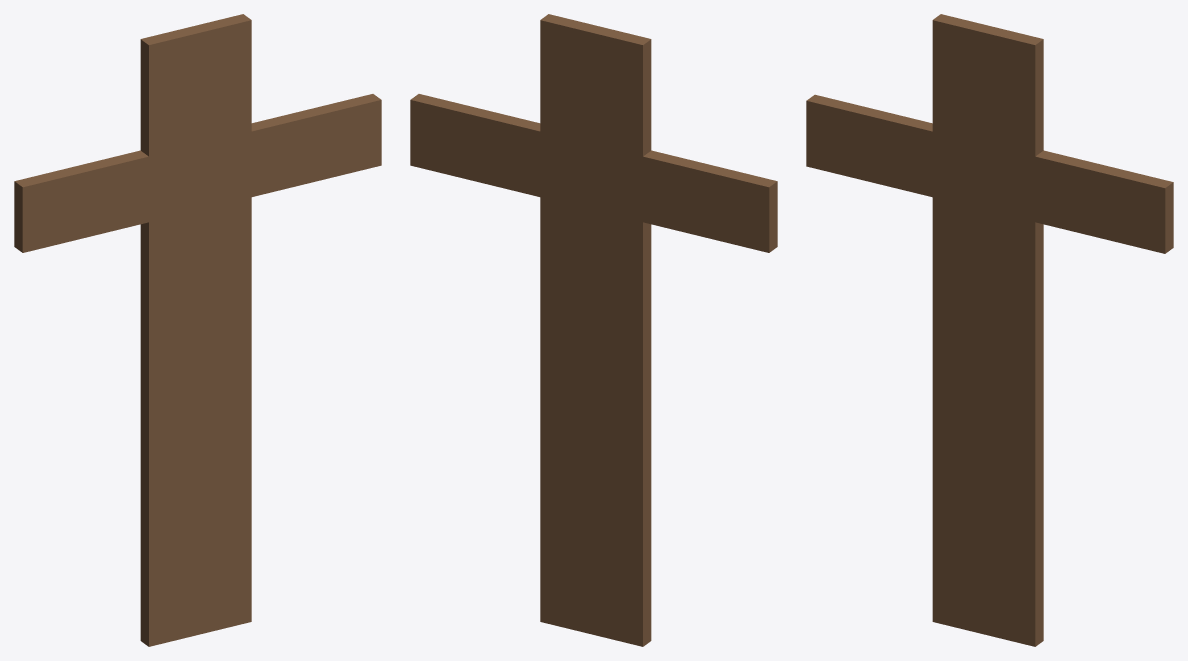
The model's file is cross.gltf.
3 views of the same model, side by side, from view 1: azimuth 30°, elevation 25°; view 2: azimuth 150°, elevation 25°; view 3: azimuth 330°, elevation 25° (orthographic).
Parts seen in each view (by area): view 1: Cube.002; view 2: Cube.002; view 3: Cube.002.
Part boxes in pixels (x1,y1,x2,y2): Cube.002: (14,14,381,646); Cube.002: (410,14,777,646); Cube.002: (806,14,1173,646).
Bounding box in the file's own units: 49.41 × 79.21 × 2.
